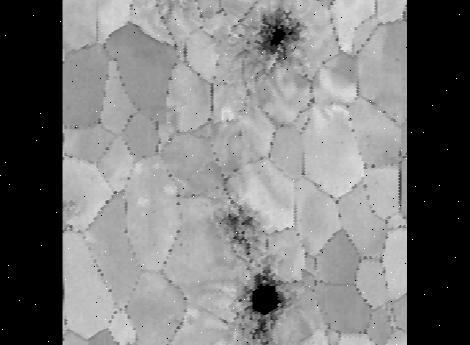good_void: (234, 261, 291, 344), (249, 0, 300, 70), (218, 210, 255, 251), (161, 0, 202, 19), (235, 125, 247, 142)
